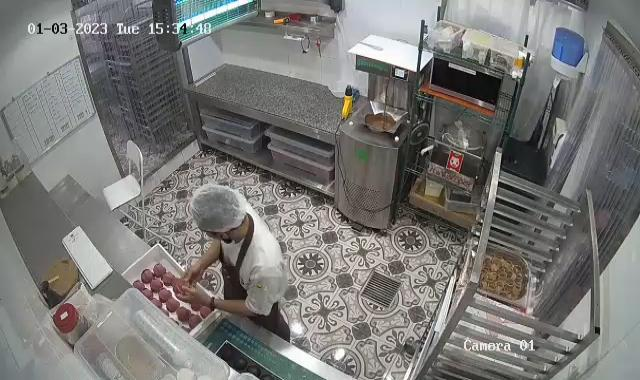hairnet: (190, 183, 242, 240)
